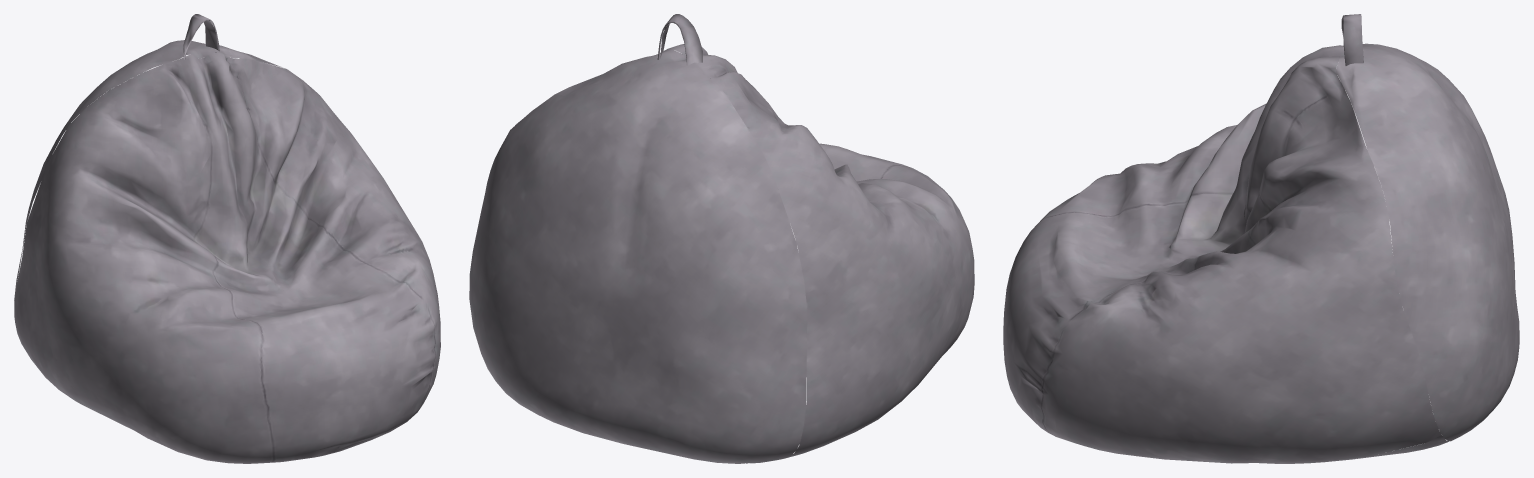
Rendered from beanbag-v3.glb.
3 views of the same model, side by side, from view 1: azimuth 30°, elevation 25°; view 2: azimuth 150°, elevation 25°; view 3: azimuth 270°, elevation 25° (orthographic). The views are drawn at different scales.
Visible parts, largest first — view 1: Object_5; view 2: Object_5; view 3: Object_5.
Boxes of the visible parts, x1,y1,x2,y2 form: Object_5: [14, 14, 440, 463]; Object_5: [469, 14, 974, 463]; Object_5: [1003, 14, 1519, 463].
Bounding box in the file's own units: 0.7837 × 0.7266 × 0.8757.
Materials: 1 (1 with a texture image).
